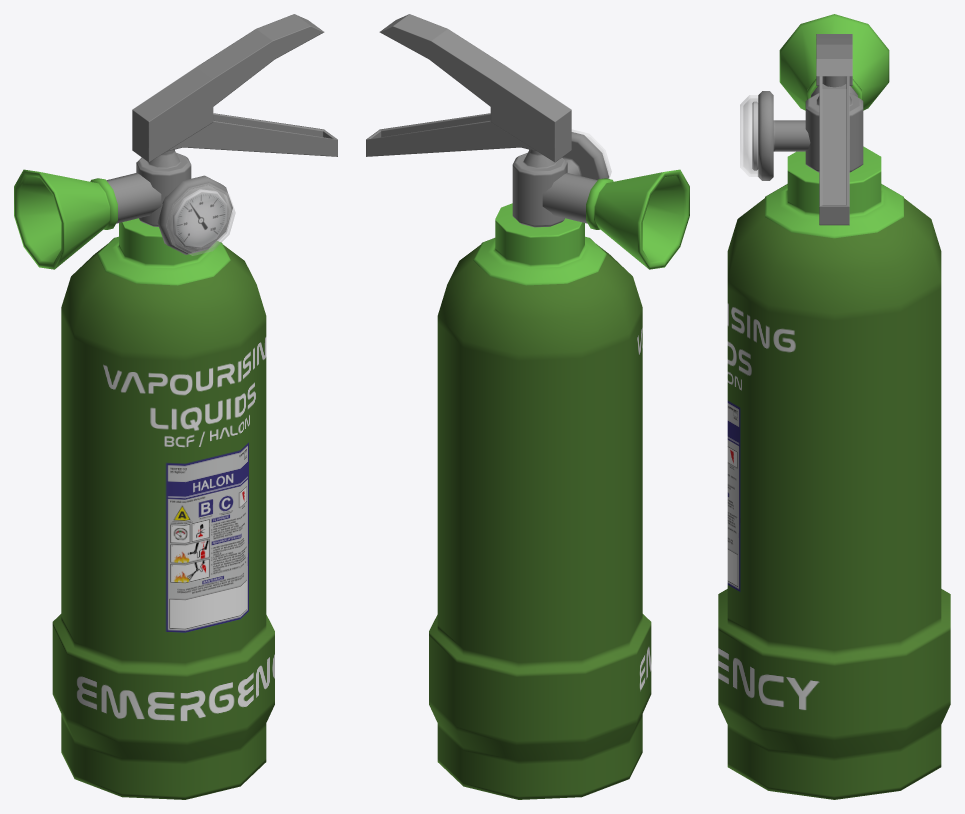
File: fire_extinguisher (2).glb
3 views of the same model, side by side, from view 1: azimuth 30°, elevation 25°; view 2: azimuth 150°, elevation 25°; view 3: azimuth 270°, elevation 25° (orthographic). The views are drawn at different scales.
Visible parts, largest first — view 1: Tank, Handle, Nozzle_Cone, Plastic, Pressure_Guage_Cover_Portable_Fire_Extinguisher_Glass_Textur, Pressure_Guage, Pressure_Guage_Housing_Portable_Fire_Extinguisher_Metal_Text, Valve_Body, Nozzle_Body; view 2: Tank, Handle, Nozzle_Cone, Plastic, Valve_Body, Nozzle_Body, Pressure_Guage_Housing_Portable_Fire_Extinguisher_Metal_Text; view 3: Tank, Plastic, Handle, Nozzle_Cone, Pressure_Guage_Housing_Portable_Fire_Extinguisher_Metal_Text, Valve_Body, Pressure_Guage_Cover_Portable_Fire_Extinguisher_Glass_Textur, Pressure_Guage.
Boxes of the visible parts, x1=… form: Tank: x1=52, y1=244, x2=274, y2=799; Handle: x1=132, y1=14, x2=337, y2=162; Nozzle_Cone: x1=14, y1=169, x2=117, y2=269; Plastic: x1=97, y1=218, x2=230, y2=285; Pressure_Guage_Cover_Portable_Fire_Extinguisher_Glass_Textur: x1=166, y1=183, x2=235, y2=255; Pressure_Guage: x1=173, y1=189, x2=227, y2=248; Pressure_Guage_Housing_Portable_Fire_Extinguisher_Metal_Text: x1=157, y1=175, x2=232, y2=254; Valve_Body: x1=136, y1=149, x2=191, y2=226; Nozzle_Body: x1=106, y1=173, x2=161, y2=223; Tank: x1=429, y1=244, x2=651, y2=799; Handle: x1=366, y1=14, x2=571, y2=162; Nozzle_Cone: x1=586, y1=169, x2=689, y2=269; Plastic: x1=473, y1=203, x2=606, y2=285; Valve_Body: x1=512, y1=149, x2=567, y2=227; Nozzle_Body: x1=542, y1=173, x2=597, y2=223; Pressure_Guage_Housing_Portable_Fire_Extinguisher_Metal_Text: x1=562, y1=132, x2=608, y2=180; Tank: x1=718, y1=198, x2=950, y2=799; Plastic: x1=765, y1=146, x2=903, y2=238; Handle: x1=816, y1=34, x2=852, y2=225; Nozzle_Cone: x1=779, y1=14, x2=889, y2=110; Pressure_Guage_Housing_Portable_Fire_Extinguisher_Metal_Text: x1=758, y1=91, x2=810, y2=180; Valve_Body: x1=805, y1=76, x2=863, y2=172; Pressure_Guage_Cover_Portable_Fire_Extinguisher_Glass_Textur: x1=740, y1=95, x2=758, y2=176; Pressure_Guage: x1=752, y1=101, x2=758, y2=170.
Size of the model in its own units: 0.0547 by 0.126 by 0.0345.
5 materials, 2 textured.
